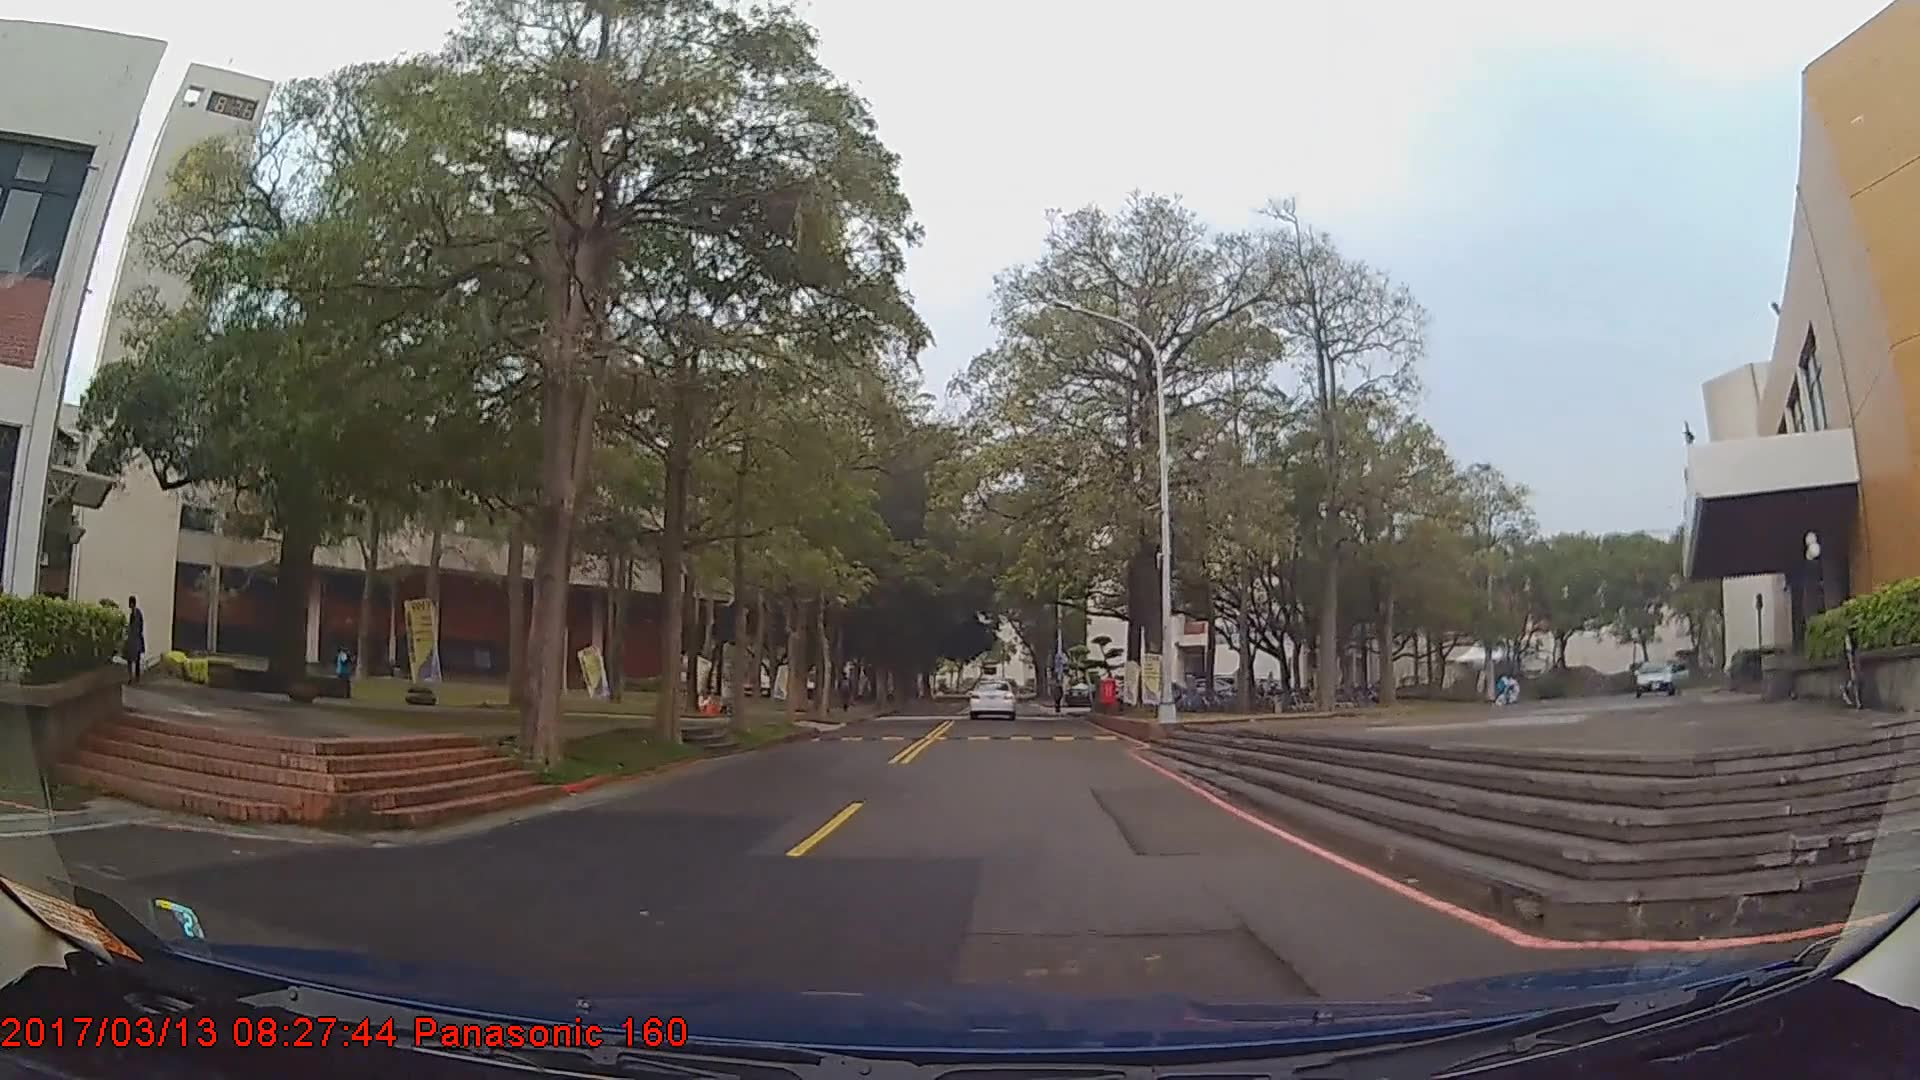pedestrian: (120, 596, 147, 685), (336, 639, 357, 704)
vehicle: (1627, 657, 1695, 700), (969, 675, 1018, 718)
